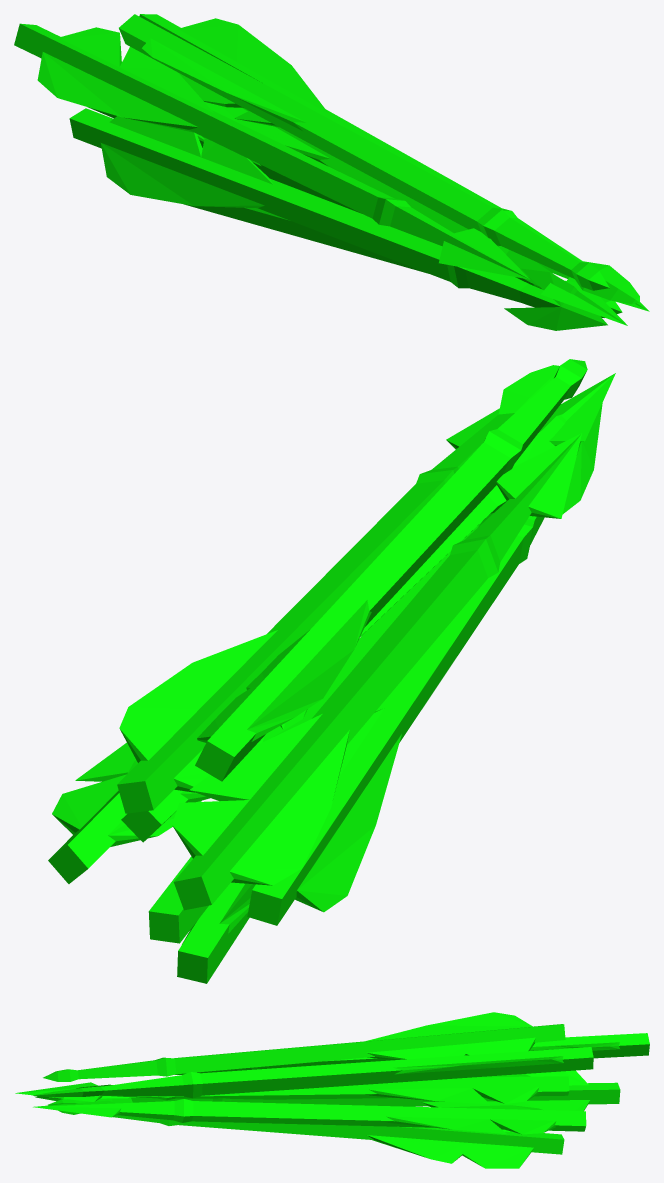
Rendered from SM_Bolts_Pile_Color_A_Fantasy.fbx.
The picture shows the model from 3 angles, top to bottom: view 1: azimuth 30°, elevation 25°; view 2: azimuth 150°, elevation 25°; view 3: azimuth 270°, elevation 25°; orthographic projection. The views are drawn at different scales.
Parts seen in each view (by area): view 1: bolts-pile-color-a-fantasy; view 2: bolts-pile-color-a-fantasy; view 3: bolts-pile-color-a-fantasy.
Part boxes in pixels (x1,y1,x2,y2): bolts-pile-color-a-fantasy: (14,14,649,330); bolts-pile-color-a-fantasy: (48,359,615,983); bolts-pile-color-a-fantasy: (15,1012,649,1168).
Size of the model in its own units: 0.0968 by 0.0751 by 0.3377.
